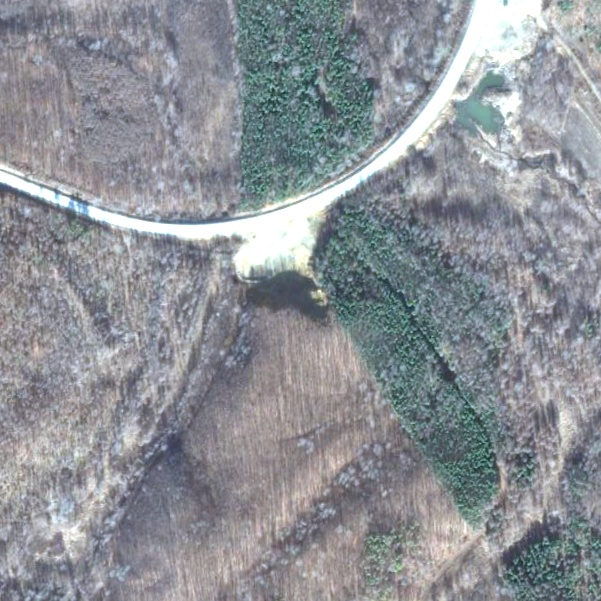slope: (223, 211, 337, 321)
